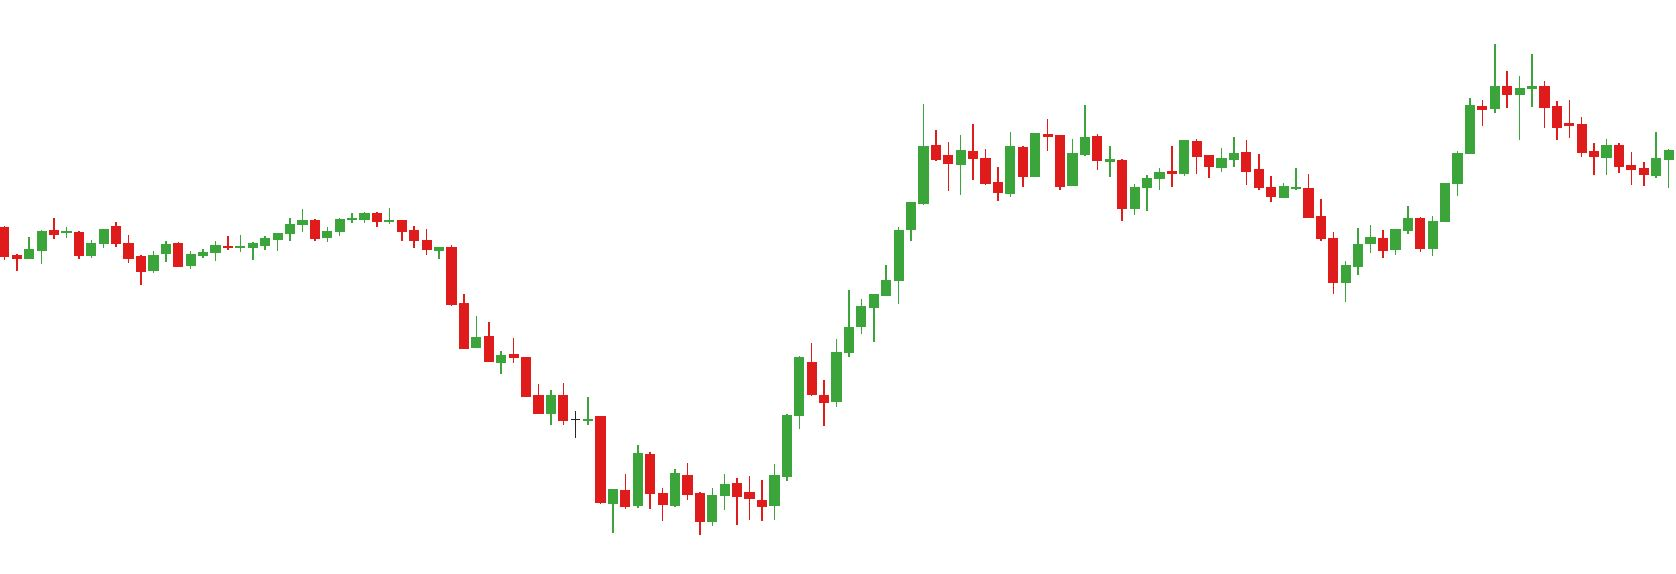buy: (606, 469, 718, 539)
